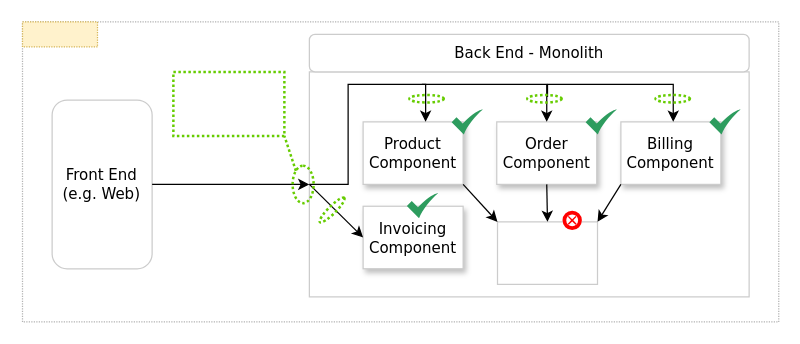
Some shapes in this 800 by 344 pixel diagram are drawn without their labels. The centre of each missing label's shape, as x and y in pixels:
"Example" belongs at (59,34).
"Notification Component" belongs at (547,252).
"Outside the system calls to intercept" belongs at (228,103).
